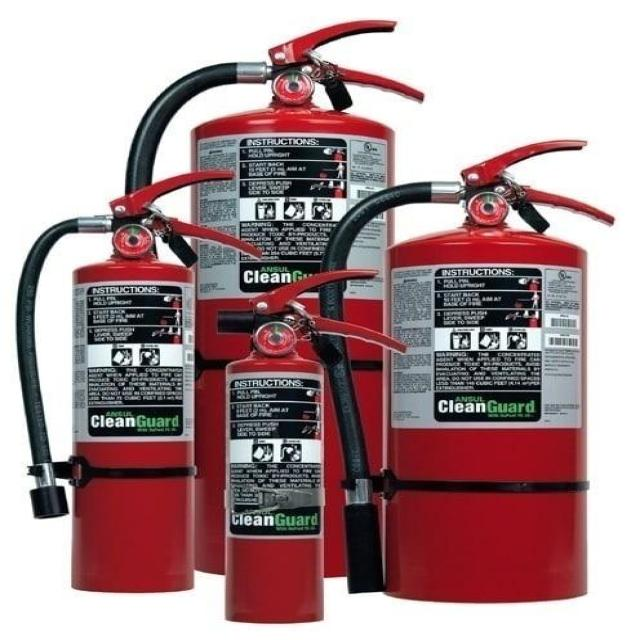fire_extinguisher: (117, 16, 426, 581), (313, 135, 619, 608), (6, 165, 266, 597), (210, 264, 410, 626)
